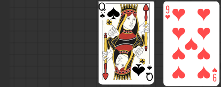9H: (211, 67, 219, 83)
